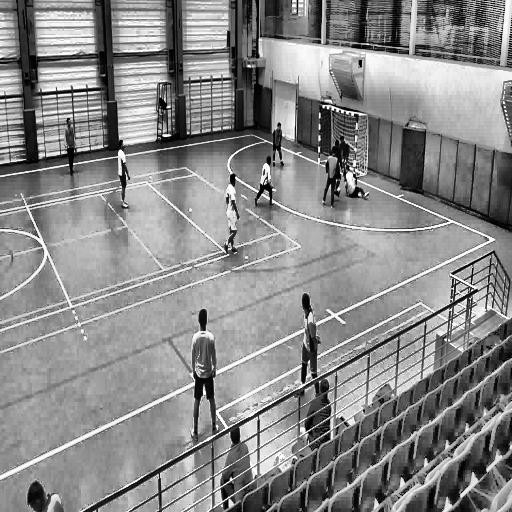ball: (336, 186, 343, 196)
player: (188, 306, 220, 443), (299, 291, 320, 400), (222, 172, 242, 259), (117, 139, 132, 211), (254, 158, 275, 209), (322, 145, 338, 210), (344, 166, 372, 202), (64, 115, 78, 176), (271, 120, 286, 169), (340, 134, 350, 168)
